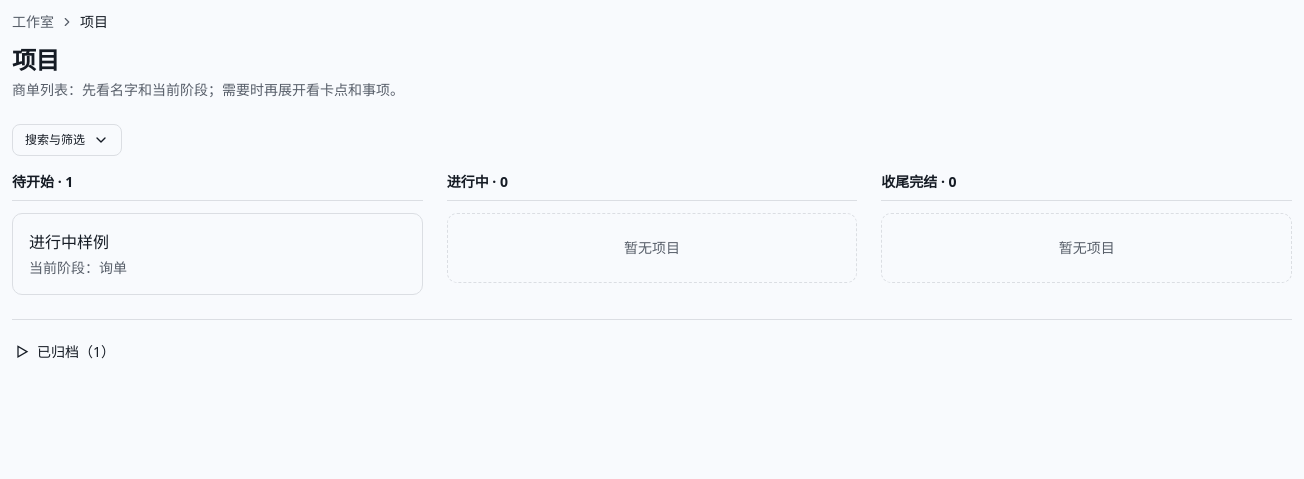
Test case: project list archived fold (WP-R2-19E) › keeps archived out of the main list and expands via includeArchived URL
The image size is (1304, 479).
Expected: the link "进行中样例" is shown, [29,230,109,254]
Expected: the text "已归档样例" is not shown
Click the button with test id "project-archived-fold-toggle" at (65, 352), box [12,336,1292,368]
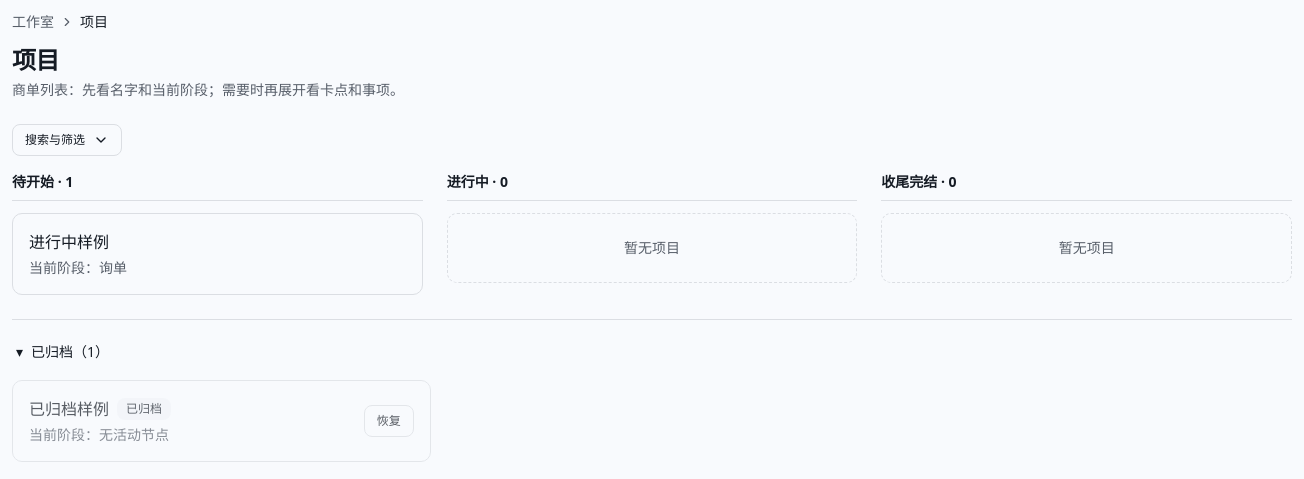
Now the button with test id "project-archived-fold-toggle" is expanded, box [12,336,1292,368]
Now the link "已归档样例" is shown, box [29,397,109,421]
Now the element with test id "project-archived-fold-list" is shown, box [12,380,431,462]
